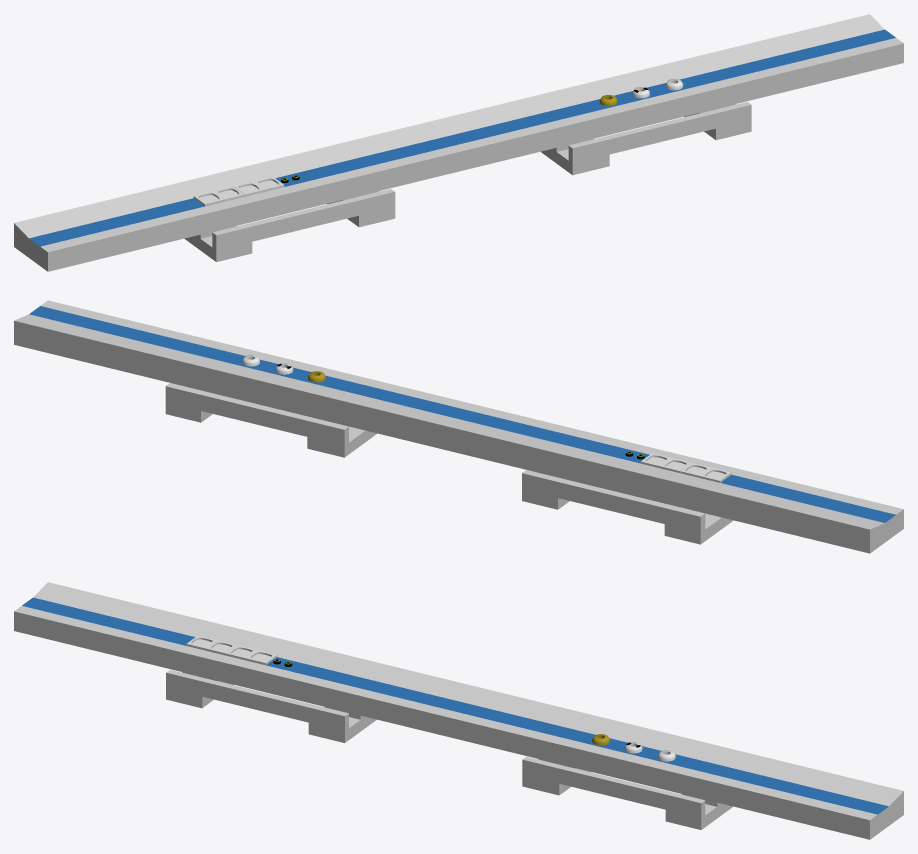
3 views of the same model, one above another, from view 1: azimuth 30°, elevation 25°; view 2: azimuth 150°, elevation 25°; view 3: azimuth 330°, elevation 25° (orthographic).
Parts seen in each view (by area): view 1: Cube; view 2: Cube; view 3: Cube.
Boxes of the visible parts, <box> form: Cube: <box>14,14,903,271</box>; Cube: <box>14,300,903,553</box>; Cube: <box>14,582,903,839</box>.
Bounding box in the file's own units: 320 × 17.1 × 33.11.
